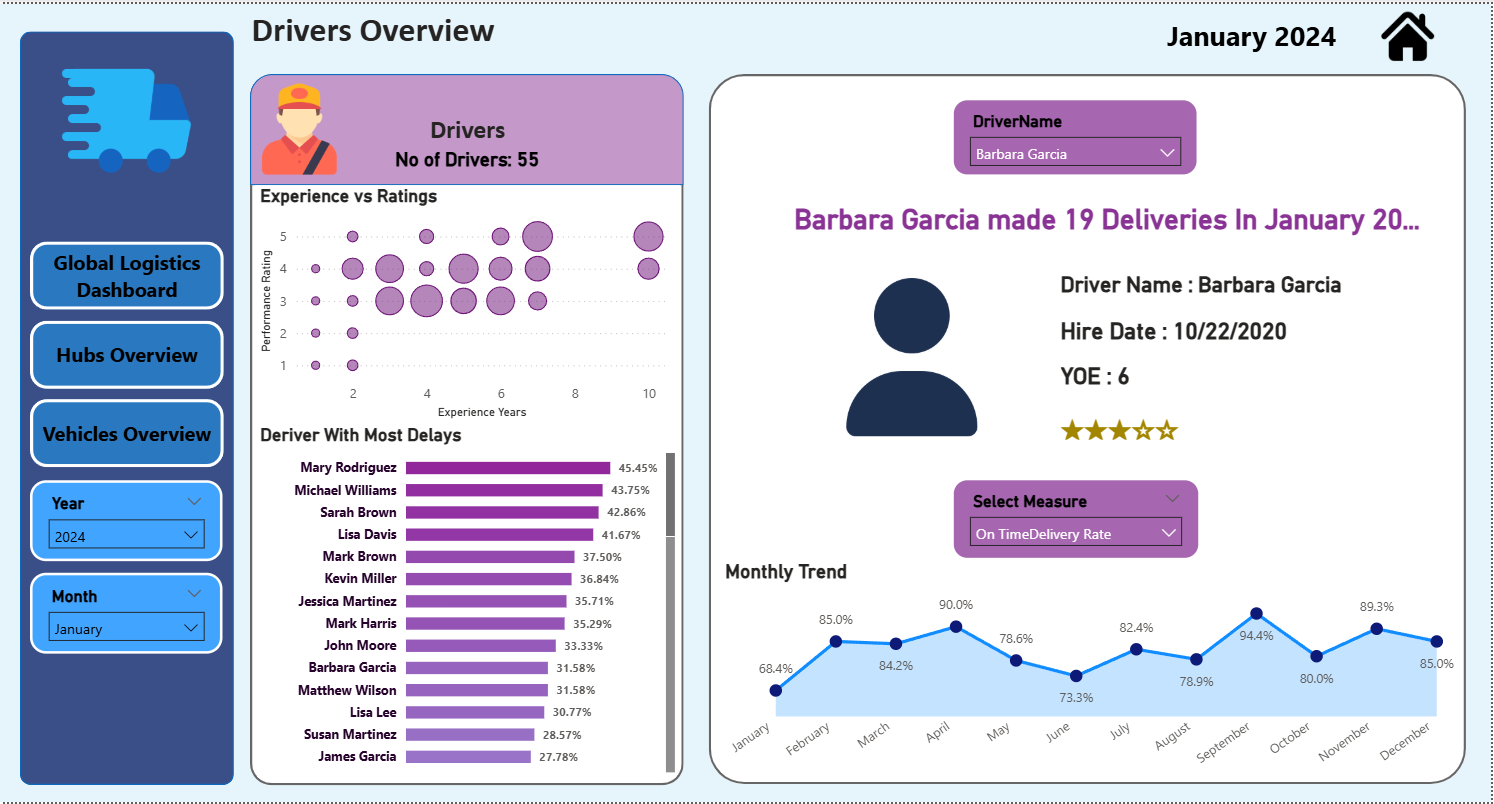

The page's visual inventory and layout, read from the dashboard file:
{"tool":"powerbi","page":{"name":"Drivers Overview","canvas":[1400,750],"ordinal":2},"visuals":[{"type":"shape","box":[19.1,26,200.8,707.7],"z":0},{"type":"textbox","box":[231.1,0,507.3,60],"z":1000},{"type":"slicer","fields":{"Values":["Date Table.Year"]},"box":[28.4,447.4,181.1,75.7],"z":2000},{"type":"slicer","fields":{"Values":["Date Table.Month"]},"box":[28.4,533.9,181.1,75.7],"z":3000},{"type":"shape","box":[234.8,66.9,407.4,666.9],"z":4000},{"type":"shape","box":[234.8,65.7,407.4,104.5],"z":5000},{"type":"card","fields":{"Values":["Drivers.No Of Drivers"]},"box":[317,131.5,244.2,29.4],"z":6000},{"type":"textbox","box":[352.2,97.4,173.8,43.4],"z":7000},{"type":"scatterChart","title":"Experience  vs Ratings","fields":{"X":["Drivers.Experience Years"],"Y":["Drivers.Performance Rating"],"Size":["Sum(Drivers.Experience Years)1"]},"box":[239.5,170.2,399.2,224.2],"z":8000},{"type":"barChart","title":"Deriver With Most Delays","fields":{"Category":["Drivers.DriverName"],"Y":["Orders.Delay Delivery Rate"]},"box":[239.5,394.5,399.2,332.3],"z":9000},{"type":"image","box":[233.6,61.1,95.1,112.7],"z":10000},{"type":"image","box":[20.5,35.5,198.1,144.8],"z":11000},{"type":"card","fields":{"Values":["Orders.YearMonth Title"]},"box":[1082,1.3,186.6,59.6],"z":12000},{"type":"shape","box":[666,65.8,711.2,666.9],"z":13000},{"type":"slicer","fields":{"Values":["Drivers.DriverName"]},"box":[894,87.9,233.2,74.2],"z":14000},{"type":"card","fields":{"Values":["Drivers.Driver_Info"]},"box":[735.1,173.9,609.6,54.7],"z":15000},{"type":"areaChart","title":"Monthly Trend","fields":{"Y":["Orders.On TimeDelivery Rate"],"Category":["Date Table.Month"]},"box":[676.7,522.8,701,209.9],"z":16000},{"type":"image","box":[757,228.7,198.3,203.4],"z":17000},{"type":"cardVisual","fields":{"Data":["Drivers.Driver Name","Drivers.Hire Date Driver","Drivers.YearsOfExperience","Drivers.Start Rating"]},"box":[984.8,232,338.6,183.5],"z":18000},{"type":"slicer","fields":{"Values":["Select Measure.Select Measure"]},"box":[893.1,445.1,234.5,77.7],"z":19000},{"type":"image","box":[1293.2,0,59.6,60.9],"z":20000},{"type":"pageNavigator","box":[28.4,223,182.5,213.6],"z":21000}]}

Visuals, with their boxes in screenshot pixels (x1, y1, x2, y2), scaled from the page's 1400x750 canvas onto the 1494x804 screenshot:
shape: select_region(20, 28, 235, 787)
textbox: select_region(247, 0, 788, 64)
slicer - Date Table.Year: select_region(30, 480, 224, 561)
slicer - Date Table.Month: select_region(30, 572, 224, 653)
shape: select_region(251, 72, 685, 787)
shape: select_region(251, 70, 685, 182)
card - Drivers.No Of Drivers: select_region(338, 141, 599, 172)
textbox: select_region(376, 104, 561, 151)
"Experience  vs Ratings" scatterChart: select_region(256, 182, 682, 423)
"Deriver With Most Delays" barChart: select_region(256, 423, 682, 779)
image: select_region(249, 65, 351, 186)
image: select_region(22, 38, 233, 193)
card - Orders.YearMonth Title: select_region(1155, 1, 1354, 65)
shape: select_region(711, 71, 1470, 785)
slicer - Drivers.DriverName: select_region(954, 94, 1203, 174)
card - Drivers.Driver_Info: select_region(784, 186, 1435, 245)
"Monthly Trend" areaChart: select_region(722, 560, 1470, 785)
image: select_region(808, 245, 1019, 463)
cardVisual - Drivers.Driver Name x Drivers.Hire Date Driver: select_region(1051, 249, 1412, 445)
slicer - Select Measure.Select Measure: select_region(953, 477, 1203, 560)
image: select_region(1380, 0, 1444, 65)
pageNavigator: select_region(30, 239, 225, 468)
